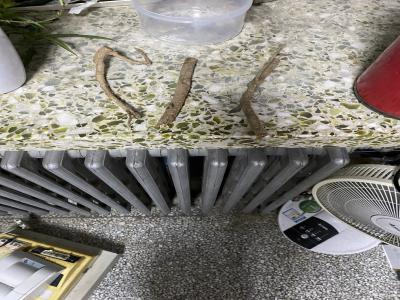Root: (93, 46, 151, 127), (239, 57, 280, 137), (156, 58, 197, 127)
